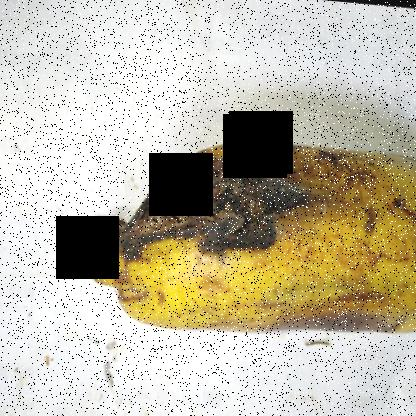ripe: (81, 122, 416, 358)
rotten: (84, 156, 310, 273), (260, 292, 404, 378)
